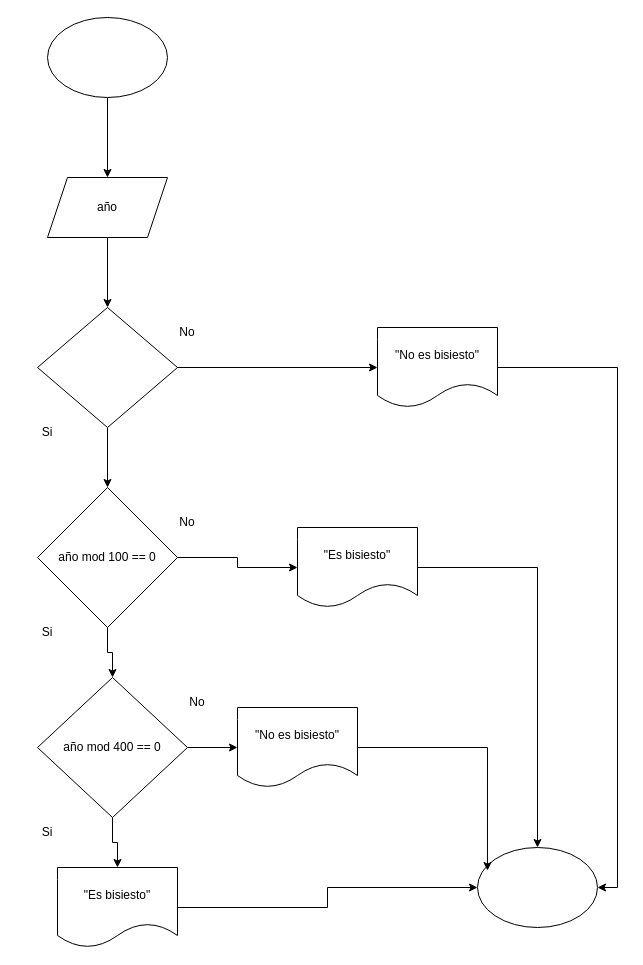
Some shapes in this 643 by 965 pixel diagram are drawn without their labels. Here are the shapes that lost their labels. From the top down, the centre of each, then its label:
(x=107, y=57): Inicio
(x=107, y=367): año mod 4 == 0
(x=537, y=887): Fin
